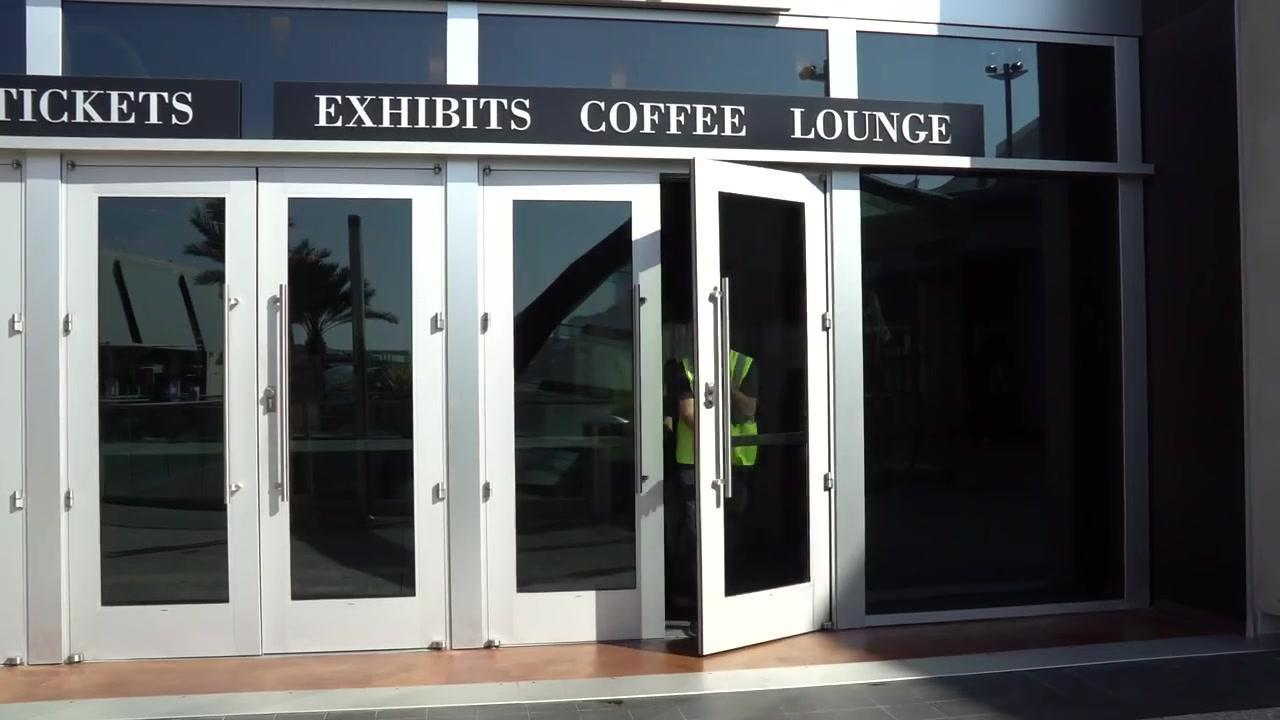vest: (675, 350, 760, 467)
